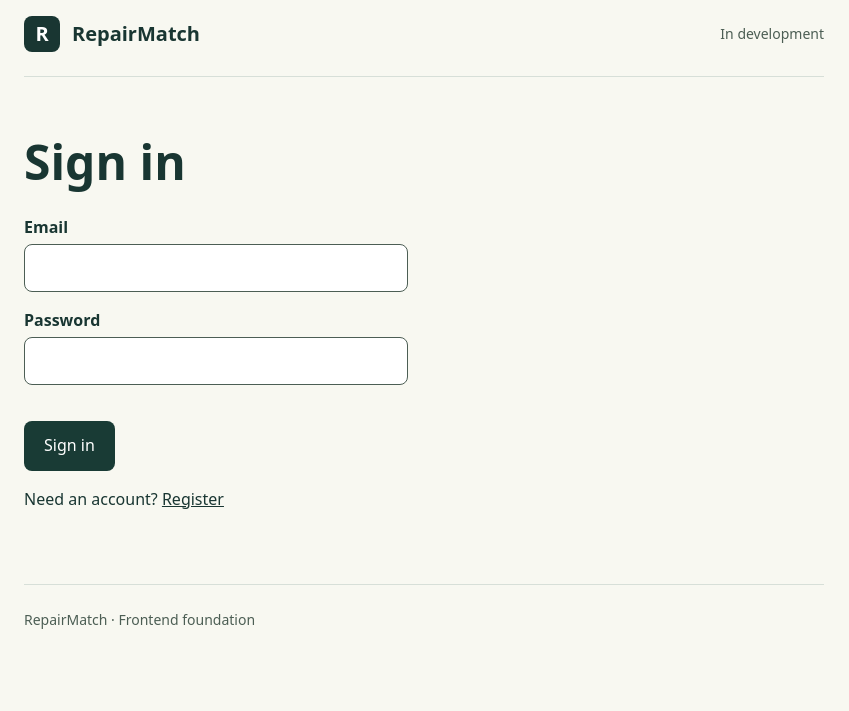
it: login form › does not flash the busy state when the form is invalid
Click the button "Sign in" at [69, 446], box [24,421,115,471]
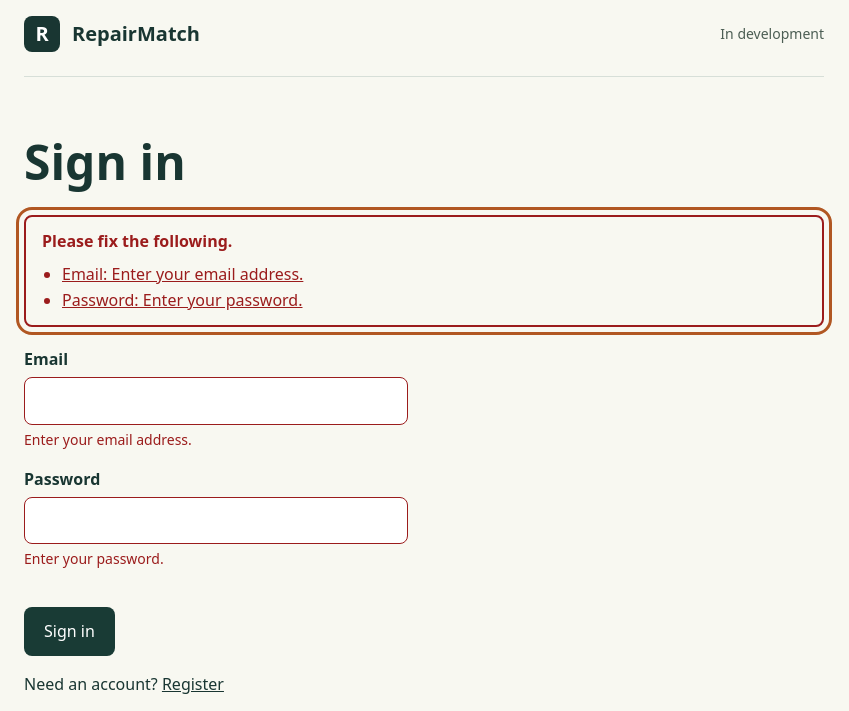
Check: the message is shown, box [24,215,824,327]
